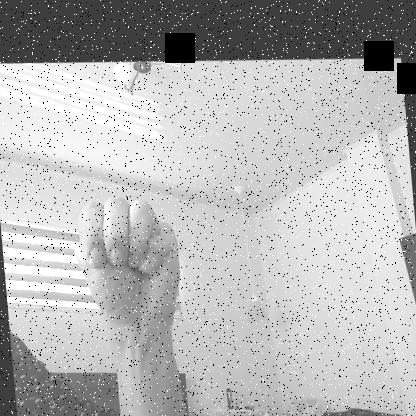M: (72, 182, 187, 342)
